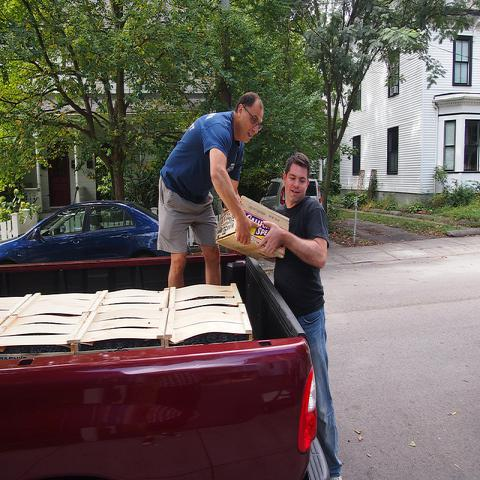car: (1, 200, 170, 264), (259, 178, 322, 212)
truck: (0, 251, 334, 479)
